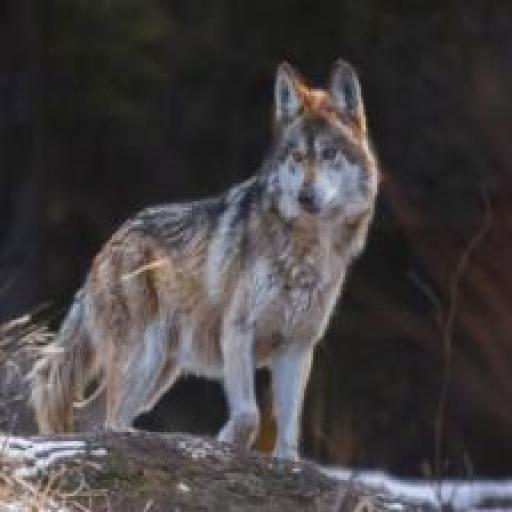wolf: (25, 55, 386, 494)
